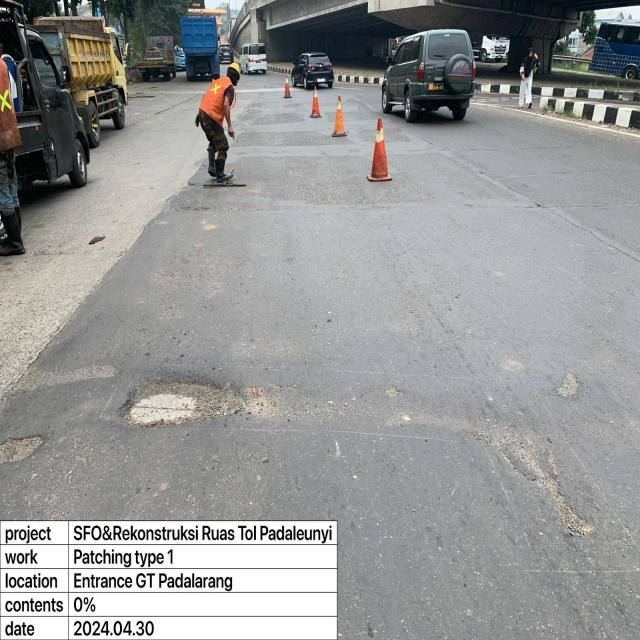Buraco: (115, 369, 252, 432), (520, 471, 600, 540), (0, 431, 50, 467), (552, 367, 584, 401)
